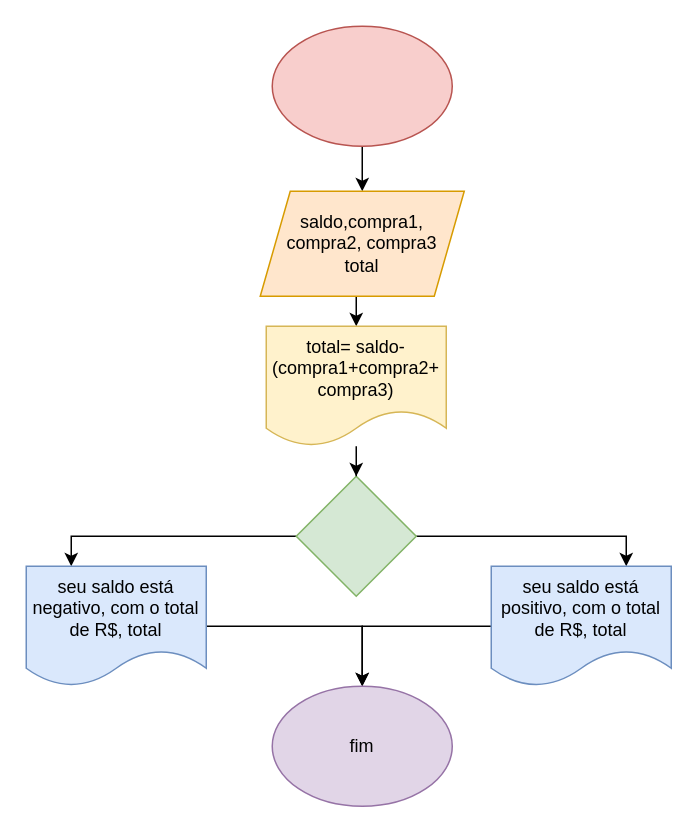
Image size: 698x833. Some labels were removed from this diagram. Each missing label, with the centre of its shape:
"inicio" goes at (361,85).
"total<0" goes at (355,535).
